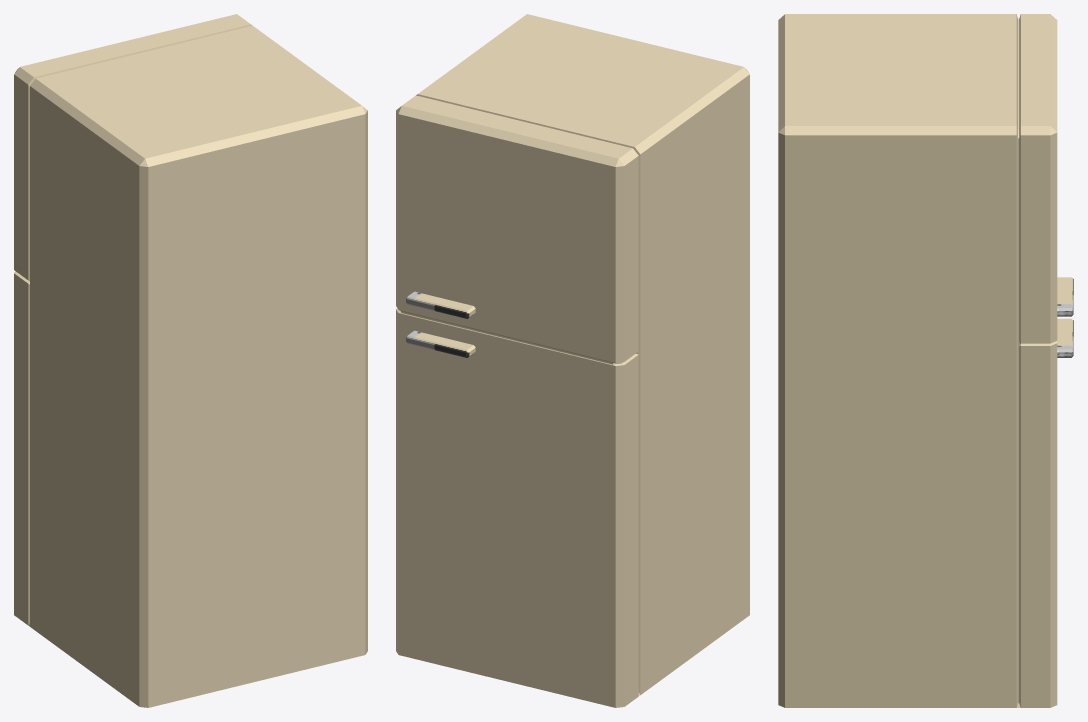
Rendered from fridge 1.fbx.
3 renders of one model, left to right at view 1: azimuth 30°, elevation 25°; view 2: azimuth 150°, elevation 25°; view 3: azimuth 270°, elevation 25°, orthographic. The views are drawn at different scales.
Visible parts, largest first — view 1: fridge; view 2: fridge; view 3: fridge.
Part boxes in pixels (x1,y1,x2,y2): fridge: (14,14,367,707); fridge: (396,14,749,707); fridge: (778,14,1073,707).
Size of the model in its own units: 93.34 by 213 by 98.8.
Materials: 1 (1 with a texture image).
